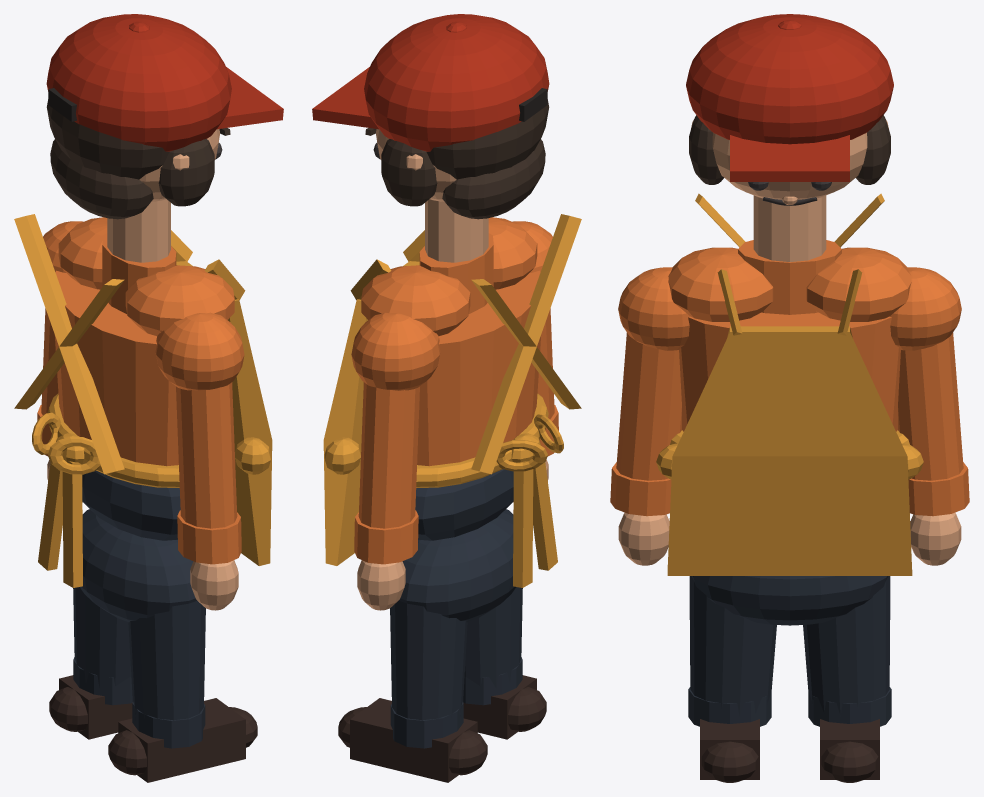
The model's file is 45-hot-dog-vendor.glb.
The picture shows the model from 3 angles, left to right: view 1: azimuth 30°, elevation 25°; view 2: azimuth 150°, elevation 25°; view 3: azimuth 270°, elevation 25°; orthographic projection.
Visible parts, largest first — view 1: CapCrown, Torso, Hips, LegR, ArmR, ApronBib, BackStrapA, ShoulderR, TrapR, ShoeR, Pelvis, HairBack (+26 smaller); view 2: CapCrown, Torso, Hips, LegL, ArmL, ApronBib, BackStrapB, ShoulderL, TrapL, Pelvis, ShoeL, HairBack (+26 smaller); view 3: ApronBib, CapCrown, LegL, LegR, ArmL, ArmR, Torso, Hips, TrapL, TrapR, CapBrim, Neck (+18 smaller).
Boxes of the visible parts, box(x1,y1,x2,y2) form: CapCrown: box(46, 14, 231, 151); Torso: box(54, 270, 178, 466); Hips: box(80, 509, 196, 622); LegR: box(128, 600, 205, 720); ArmR: box(176, 382, 237, 528); ApronBib: box(176, 261, 272, 565); BackStrapA: box(14, 214, 124, 474); ShoulderR: box(155, 312, 244, 390); TrapR: box(125, 265, 234, 335); ShoeR: box(118, 698, 245, 782); Pelvis: box(82, 470, 180, 540); HairBack: box(46, 99, 169, 179); CapCrown: box(364, 14, 549, 151); Torso: box(417, 270, 541, 466); Hips: box(399, 509, 515, 622); LegL: box(390, 600, 467, 720); ArmL: box(358, 382, 419, 528); ApronBib: box(323, 261, 419, 565); BackStrapB: box(471, 214, 581, 474); ShoulderL: box(351, 312, 440, 390); TrapL: box(361, 265, 470, 335); Pelvis: box(415, 469, 513, 540); ShoeL: box(350, 698, 477, 782); HairBack: box(426, 99, 549, 179); ApronBib: box(667, 326, 912, 575); CapCrown: box(686, 14, 893, 144); LegL: box(803, 576, 890, 715); LegR: box(689, 576, 776, 715); ArmL: box(898, 333, 963, 480); ArmR: box(616, 333, 681, 480); Torso: box(679, 312, 900, 431); Hips: box(691, 576, 888, 625); TrapL: box(806, 247, 911, 321); TrapR: box(668, 247, 773, 321); CapBrim: box(730, 135, 849, 181); Neck: box(753, 195, 826, 261).
Bounding box in the file's own units: 0.5661 × 1.82 × 0.8141.
